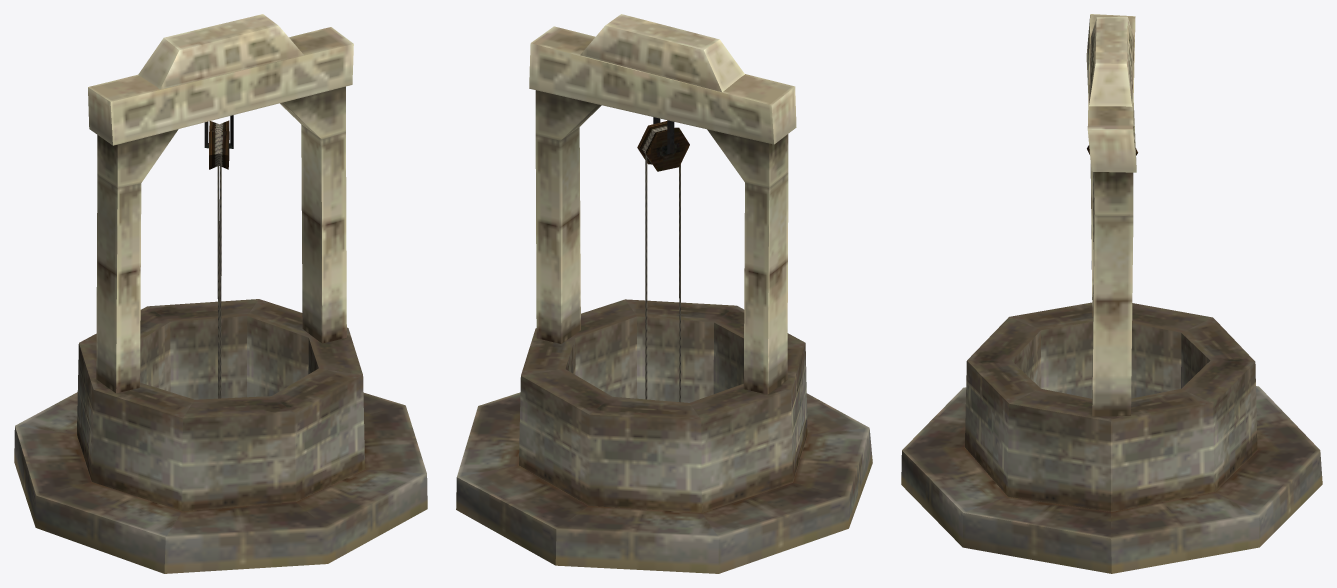
Rendered from OZ_22_ns_well01A.glb.
3 views of the same model, side by side, from view 1: azimuth 30°, elevation 25°; view 2: azimuth 150°, elevation 25°; view 3: azimuth 270°, elevation 25° (orthographic). The views are drawn at different scales.
Visible parts, largest first — view 1: OM_22_ns_well01A; view 2: OM_22_ns_well01A; view 3: OM_22_ns_well01A.
Boxes of the visible parts, <box> form: OM_22_ns_well01A: <box>14,14,427,573</box>; OM_22_ns_well01A: <box>456,14,872,573</box>; OM_22_ns_well01A: <box>901,14,1322,573</box>.
Bounding box in the file's own units: 2.55 × 3 × 2.55.
1 material, 1 textured.
